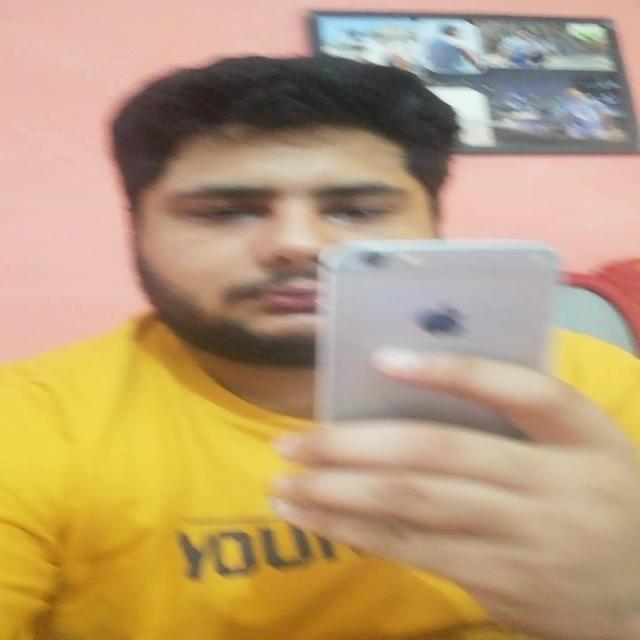Phone: (319, 240, 565, 446)
